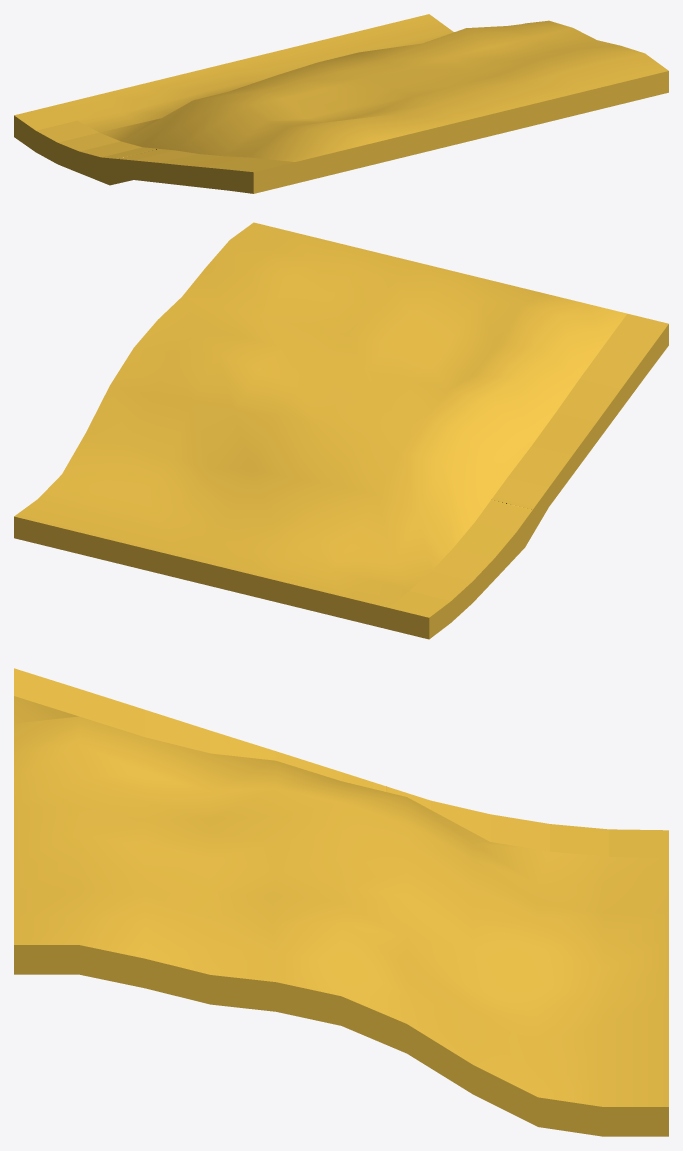
Rendered from Flach - Unten - Hügel a - x.fbx.
The picture shows the model from 3 angles, top to bottom: view 1: azimuth 30°, elevation 25°; view 2: azimuth 150°, elevation 25°; view 3: azimuth 270°, elevation 25°; orthographic projection. The views are drawn at different scales.
Parts seen in each view (by area): view 1: Flach - Unten - Hügel a - x; view 2: Flach - Unten - Hügel a - x; view 3: Flach - Unten - Hügel a - x.
Boxes of the visible parts, bbox=[...] form: Flach - Unten - Hügel a - x: bbox=[14, 14, 668, 193]; Flach - Unten - Hügel a - x: bbox=[14, 222, 668, 639]; Flach - Unten - Hügel a - x: bbox=[14, 668, 668, 1136].
Bounding box in the file's own units: 394 × 132 × 394.
